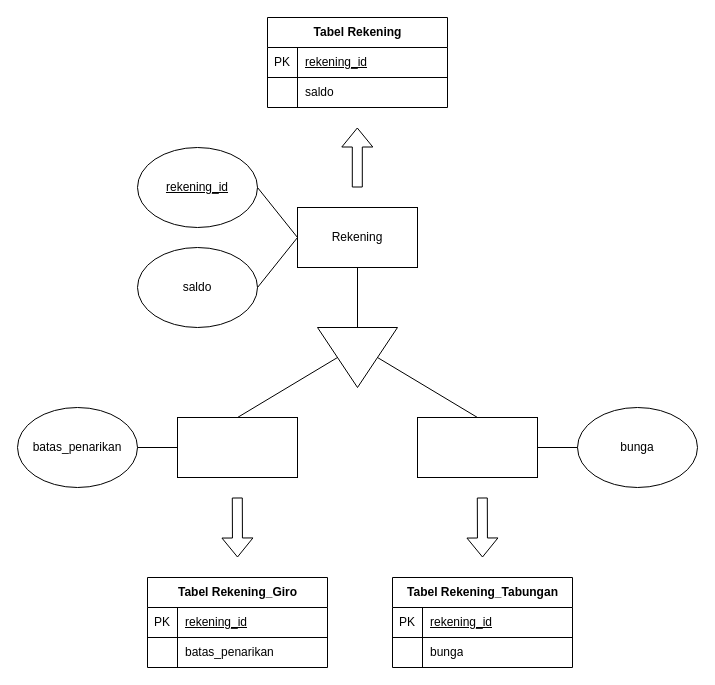
The diagram is 715 pixels wide and 685 high, and some of its shapes have lost their labels. Here are the shapes that lost their labels. From the top down, the centre of each, then its label:
[357,357]: ISA
[237,447]: Rekening_Giro
[477,447]: Rekening_Tabungan
